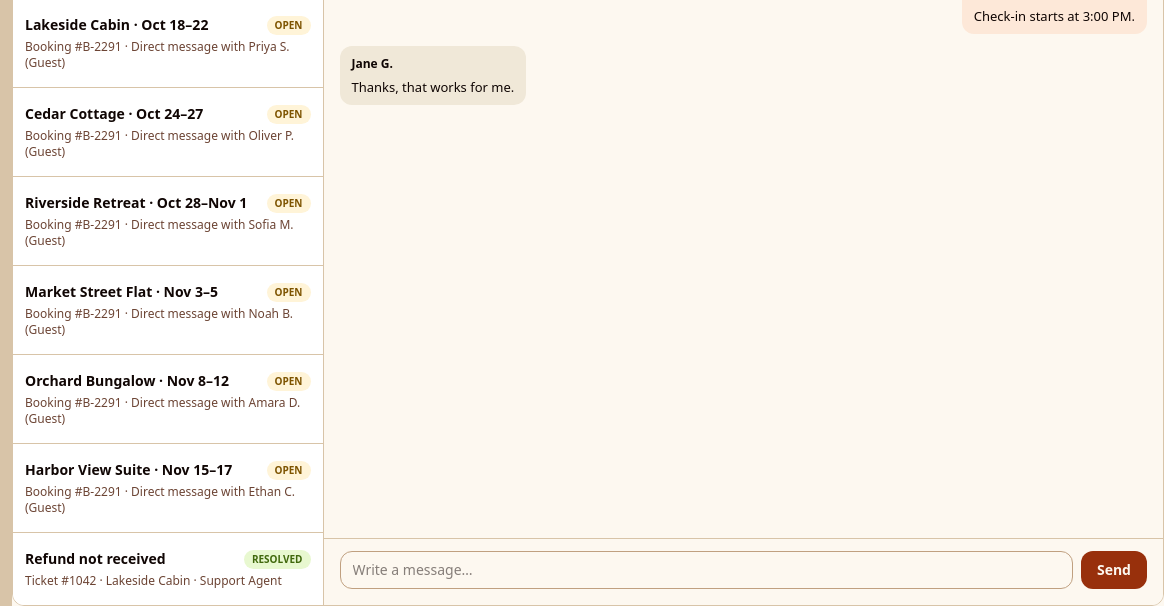
Test case: Host messages and wallet › renders the exact conversations and disables resolved composer
(page scrolled)
Expected: the field with placeholder "Write a message…" is enabled, [340, 551, 1073, 589]
Click the button "Ticket #1042". click: click(168, 569)
box: [13, 533, 322, 605]
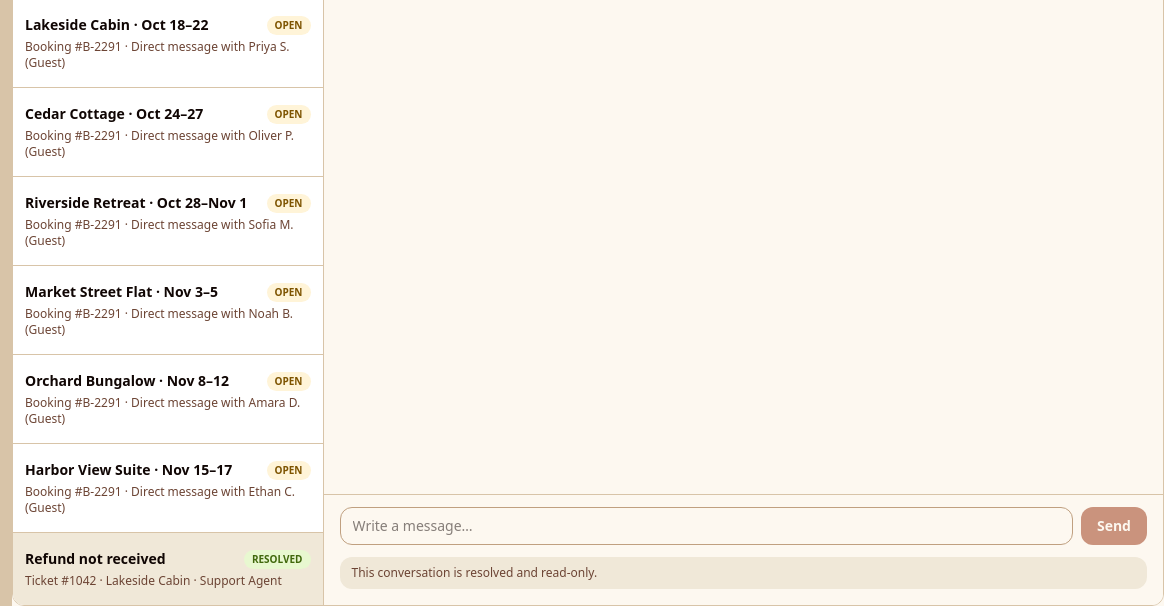
Expected: the field with placeholder "Write a message…" is disabled, [340, 507, 1073, 545]
